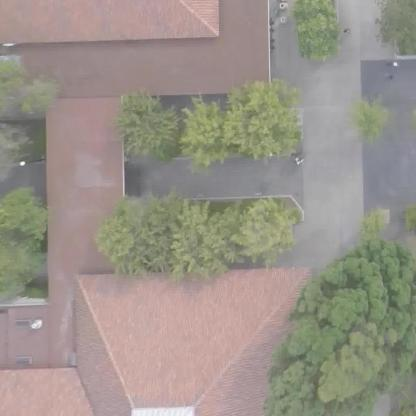Pedestrian: (344, 20, 355, 46), (291, 150, 304, 169), (383, 70, 394, 87)
